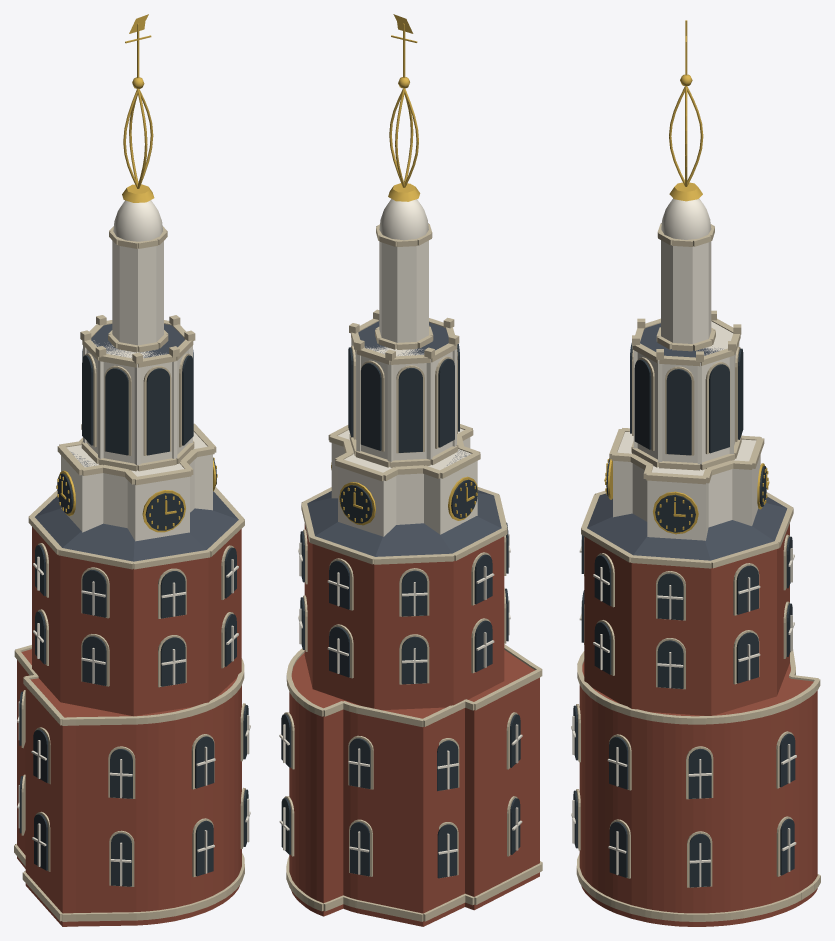
File: montelbaanstoren-amsterdam.glb
3 renders of one model, left to right at view 1: azimuth 30°, elevation 25°; view 2: azimuth 150°, elevation 25°; view 3: azimuth 270°, elevation 25°, orthographic.
Visible parts, largest first — view 1: montelbaanstoren-amsterdam; view 2: montelbaanstoren-amsterdam; view 3: montelbaanstoren-amsterdam.
Boxes of the visible parts, box(x1,y1,x2,y2) form: montelbaanstoren-amsterdam: box(14, 14, 250, 926); montelbaanstoren-amsterdam: box(279, 14, 542, 926); montelbaanstoren-amsterdam: box(571, 20, 820, 926).
Bounding box in the file's own units: 12.29 × 48 × 12.52.
